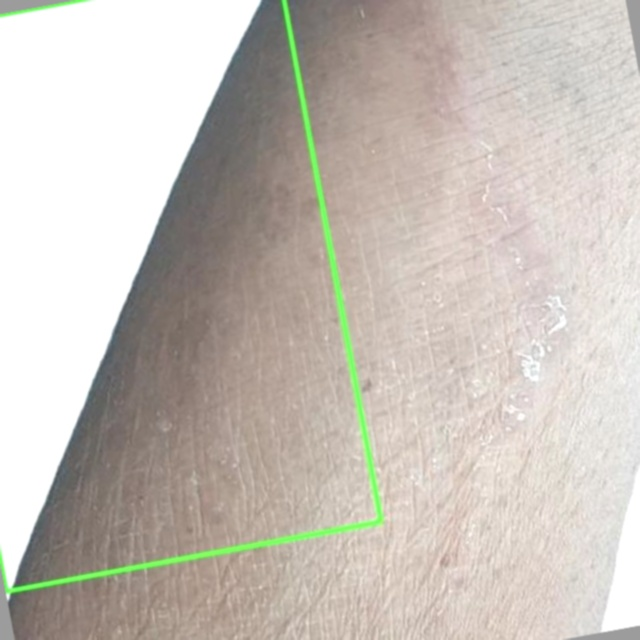Tinea Corporis: (0, 0, 381, 591)
